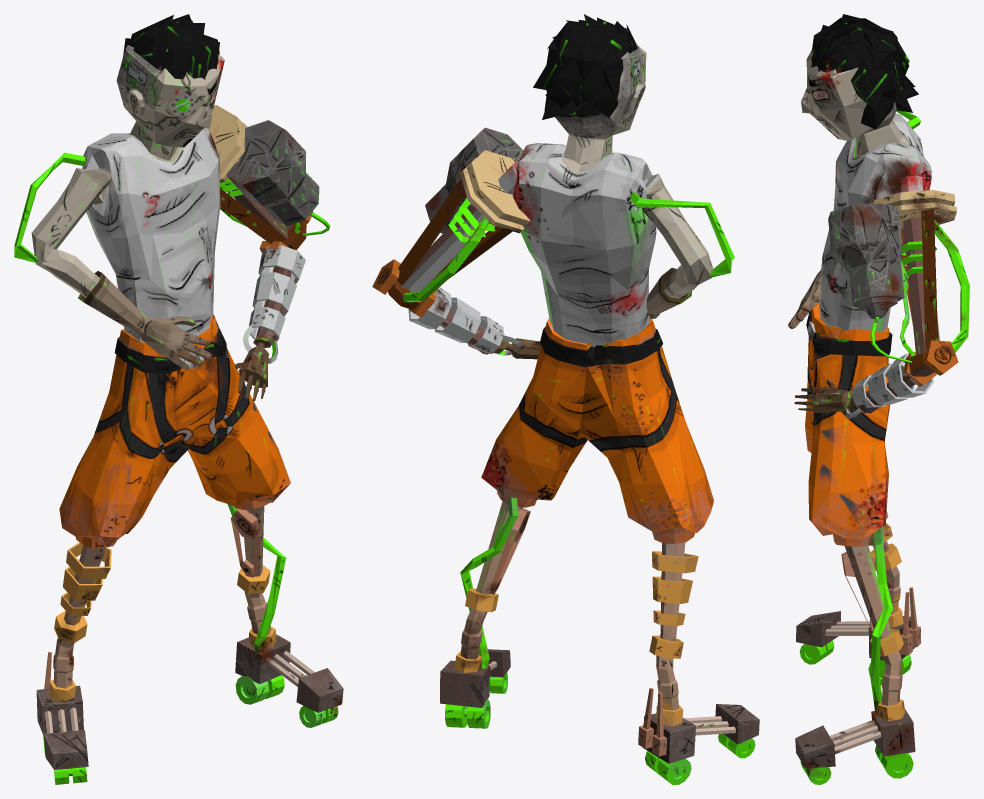
File: CyborgFINALAnimation_000013.obj
The picture shows the model from 3 angles, left to right: view 1: azimuth 30°, elevation 25°; view 2: azimuth 150°, elevation 25°; view 3: azimuth 270°, elevation 25°; orthographic projection. The views are drawn at different scales.
Visible parts, largest first — view 1: CyborgMesh_Cube.002; view 2: CyborgMesh_Cube.002; view 3: CyborgMesh_Cube.002.
Boxes of the visible parts, left/top/right/bottom form: CyborgMesh_Cube.002: left=14, top=14, right=343, bottom=784; CyborgMesh_Cube.002: left=372, top=14, right=759, bottom=784; CyborgMesh_Cube.002: left=788, top=14, right=969, bottom=784.
Bounding box in the file's own units: 4.53 × 9.61 × 2.25.
